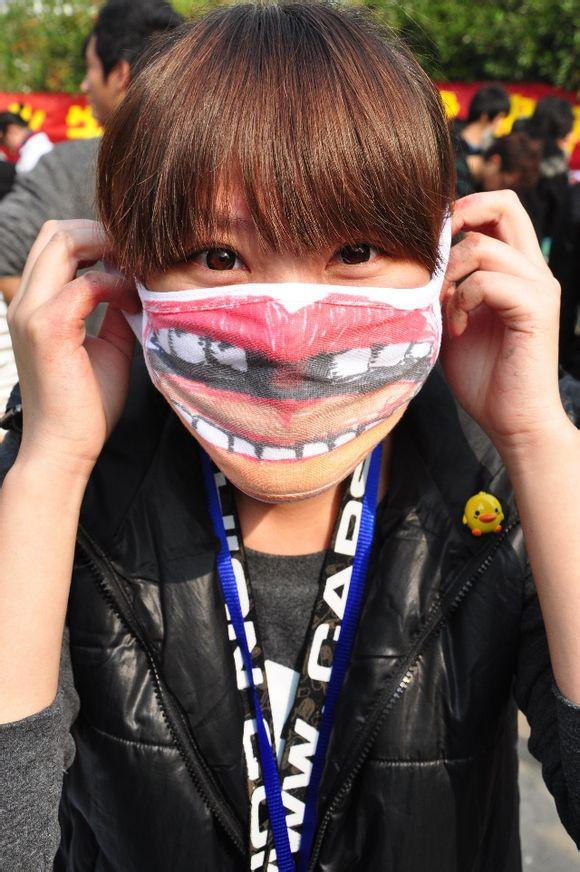OK: (144, 189, 450, 495)
